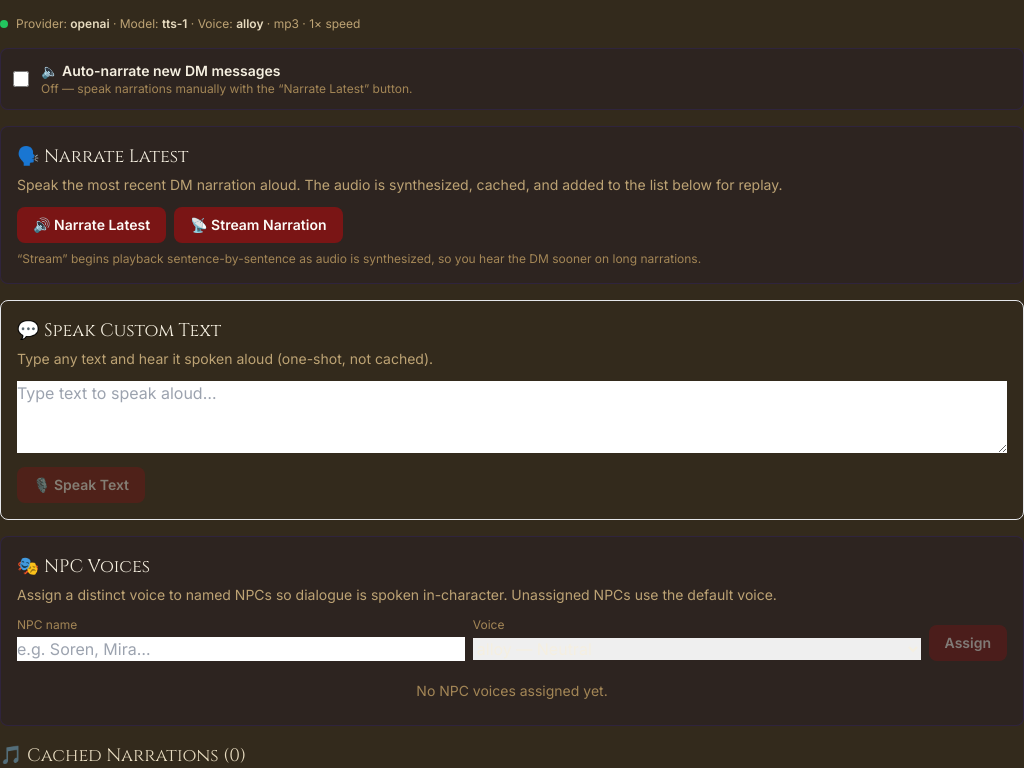
Test: VoicePanel › shows an error when narration fails with a 503
Expected: the text "openai" is shown, top-left (70, 16), bottom-right (110, 31)
Click the button "🔊 Narrate Latest" at (92, 225), box top-left (17, 207), bottom-right (166, 243)
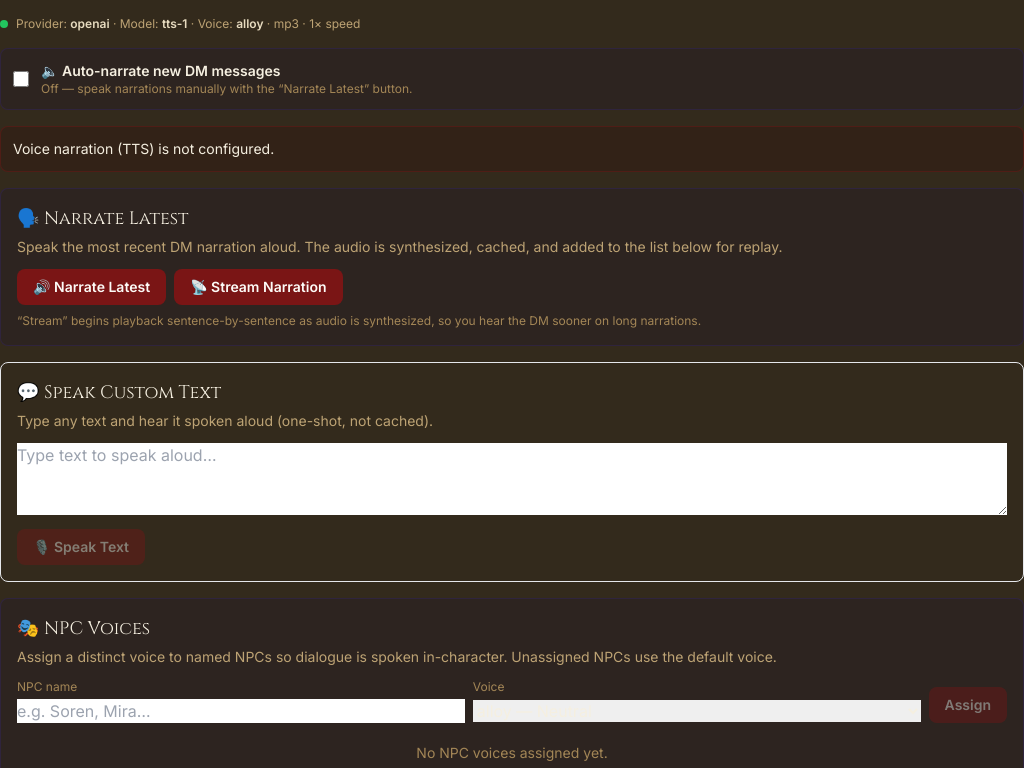
Now the text "Voice narration (TTS) is not configured." is shown, box top-left (0, 126), bottom-right (1023, 172)
